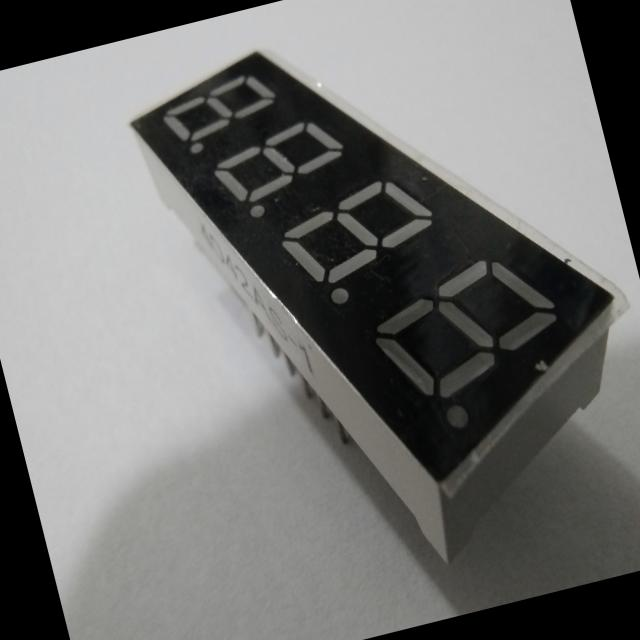7_segments_4_digits: (112, 0, 640, 620)
